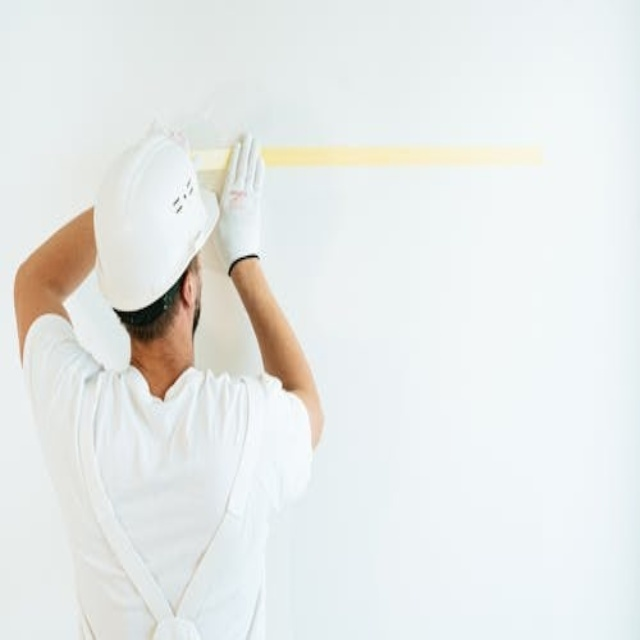Guantes: (215, 133, 266, 276)
